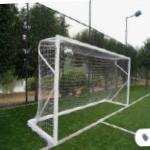goals: (26, 34, 132, 141)
